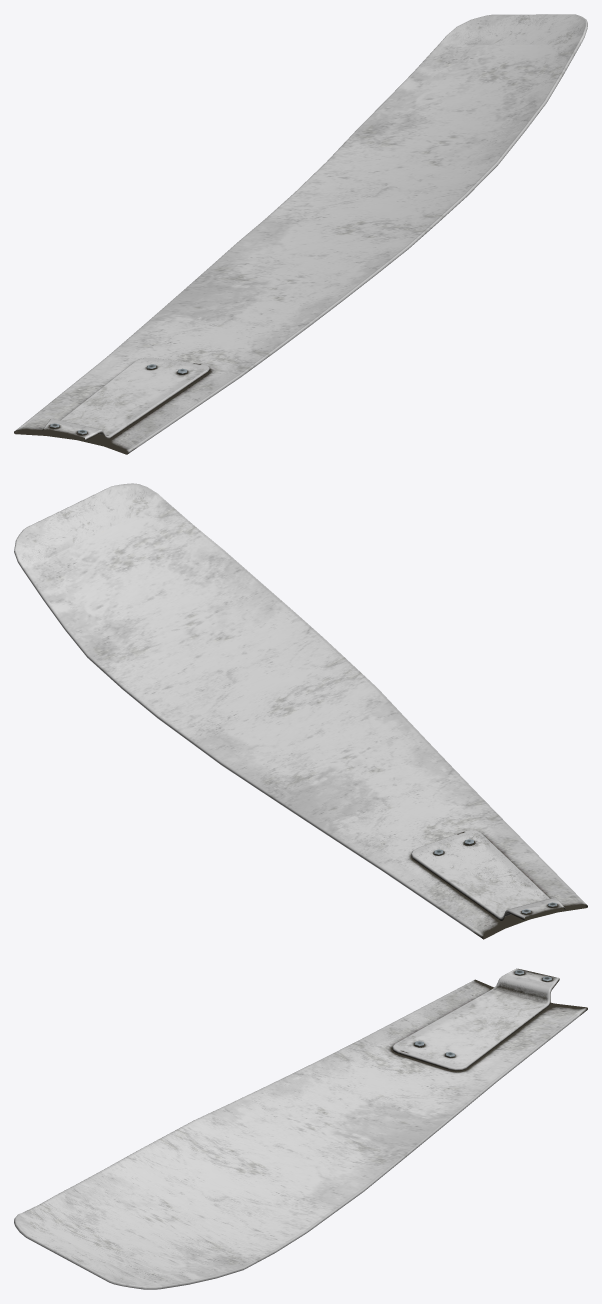
File: Ceiling fan blades.fbx
The picture shows the model from 3 angles, top to bottom: view 1: azimuth 90°, elevation 25°; view 2: azimuth 150°, elevation 25°; view 3: azimuth 270°, elevation 25°; orthographic projection. The views are drawn at different scales.
Parts seen in each view (by area): view 1: Cloner__0.001; view 2: Cloner__0.001; view 3: Cloner__0.001.
Boxes of the visible parts, x1,y1,x2,y2 form: Cloner__0.001: (14, 14, 587, 454); Cloner__0.001: (14, 483, 587, 939); Cloner__0.001: (14, 968, 587, 1289).
Bounding box in the file's own units: 1109 × 141 × 727.
Materials: 1 (1 with a texture image).
